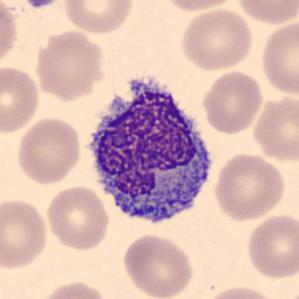Monocyte: (79, 72, 218, 232)
Platelets: (20, 0, 64, 9)
RBC: (32, 28, 108, 102), (211, 151, 287, 222), (119, 231, 196, 299), (178, 6, 256, 72), (14, 115, 84, 186), (44, 183, 111, 252), (200, 68, 265, 135), (0, 196, 50, 271), (244, 212, 298, 280), (250, 92, 298, 164), (257, 18, 298, 98), (0, 64, 43, 136), (60, 0, 136, 36), (233, 0, 298, 26), (37, 278, 110, 299), (0, 0, 21, 71), (201, 284, 281, 299), (158, 0, 240, 13), (280, 287, 298, 299)
